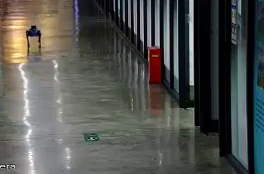robot dog: (24, 24, 45, 48)
